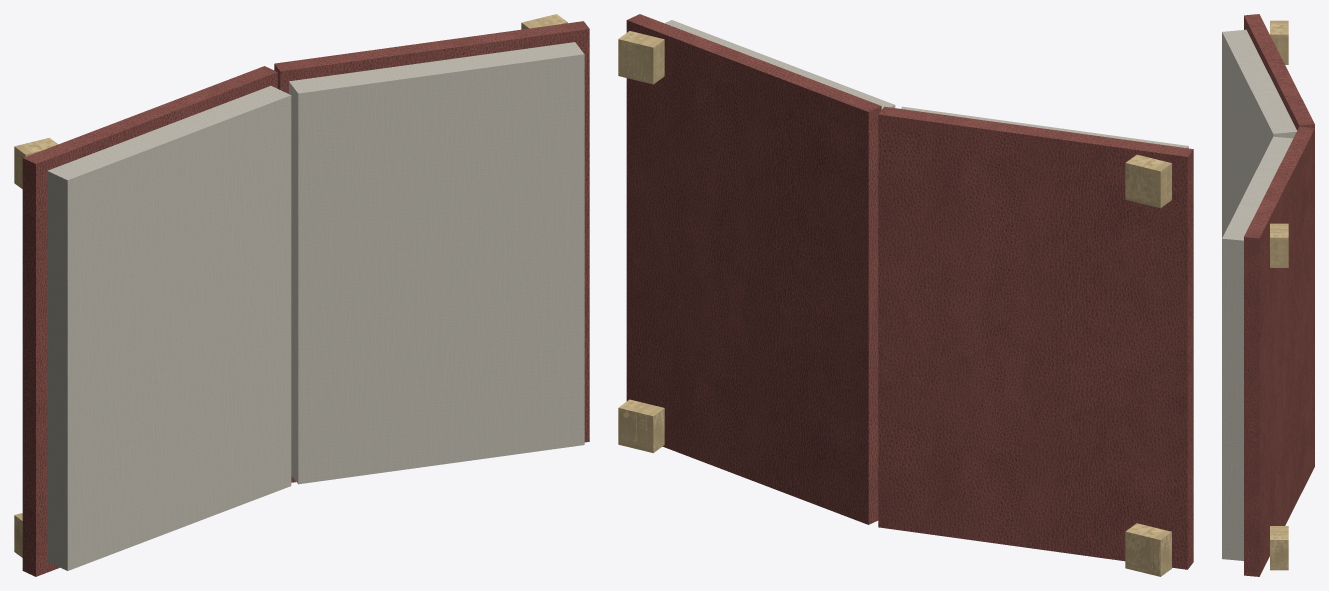
The model's file is spellbook_open.glb.
3 renders of one model, left to right at view 1: azimuth 30°, elevation 25°; view 2: azimuth 150°, elevation 25°; view 3: azimuth 270°, elevation 25°, orthographic. The views are drawn at different scales.
Parts seen in each view (by area): view 1: spellbook_open; view 2: spellbook_open; view 3: spellbook_open.
Boxes of the visible parts, x1,y1,x2,y2 form: spellbook_open: (14, 14, 589, 576); spellbook_open: (618, 14, 1193, 576); spellbook_open: (1222, 14, 1314, 576).
Bounding box in the file's own units: 0.3981 × 0.28 × 0.0697.
Materials: 3 (3 with a texture image).
